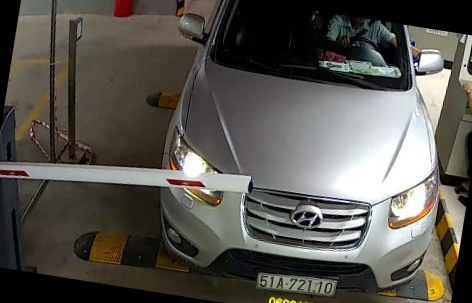plate: (256, 262, 339, 302)
